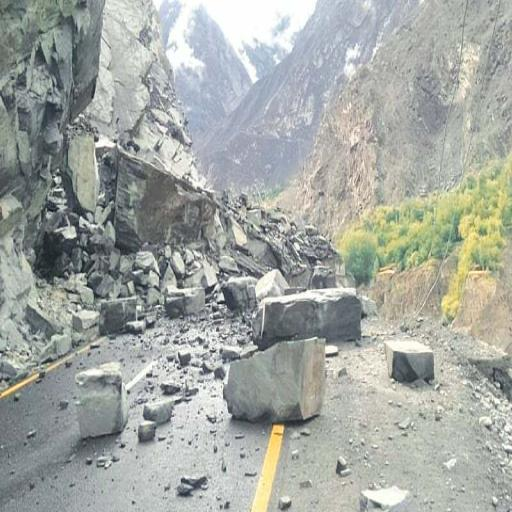Landslide: (86, 86, 328, 330)
Rock: (214, 337, 341, 417), (248, 275, 367, 353), (61, 368, 140, 426), (388, 325, 436, 380)
